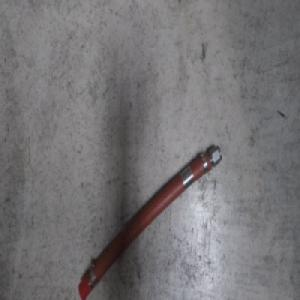Hose: (76, 137, 224, 300)
